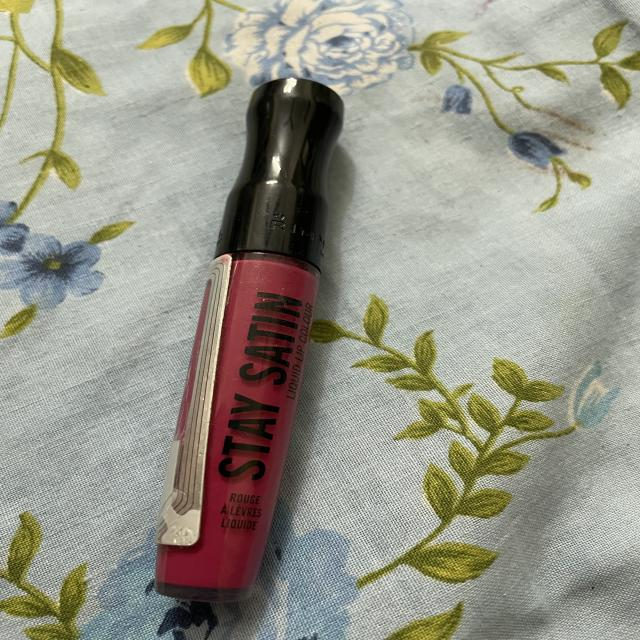lip gloss: (123, 66, 384, 618)
